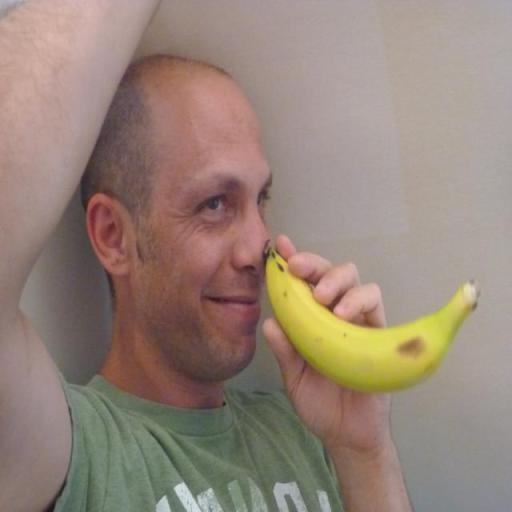fruit: (265, 249, 478, 391)
